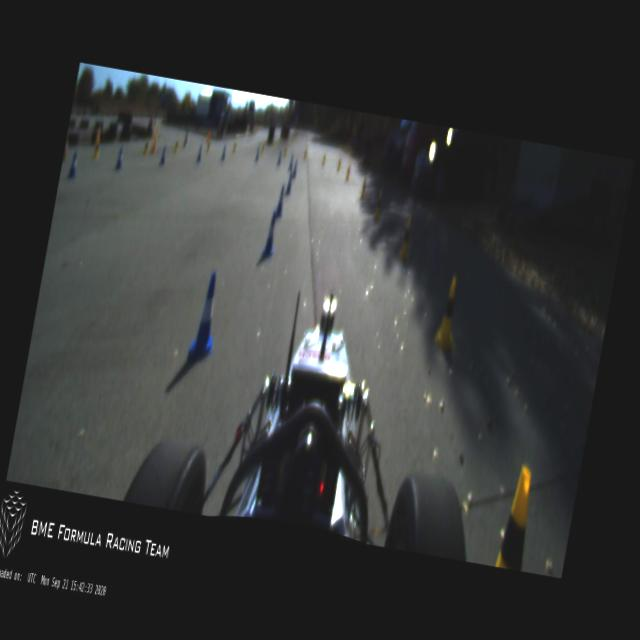blue_cone: (186, 270, 225, 366), (260, 211, 279, 260), (274, 184, 286, 217), (67, 152, 79, 180), (283, 171, 294, 196), (114, 146, 124, 170), (195, 144, 202, 163), (160, 146, 167, 164), (220, 144, 227, 160), (292, 160, 298, 177), (288, 154, 294, 169), (255, 146, 260, 162), (277, 152, 281, 164)
unknown_cone: (150, 124, 160, 154), (182, 130, 190, 148)
yellow_cone: (494, 463, 540, 570), (433, 276, 465, 353), (398, 219, 414, 260), (372, 190, 384, 222), (359, 174, 368, 199), (92, 136, 102, 158), (142, 136, 150, 155), (345, 166, 351, 182), (173, 138, 179, 152), (336, 158, 342, 171), (322, 153, 326, 165), (303, 148, 307, 160), (260, 142, 264, 154), (232, 141, 236, 152), (283, 144, 286, 156)
